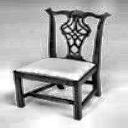chair_success: (6, 6, 112, 121)
